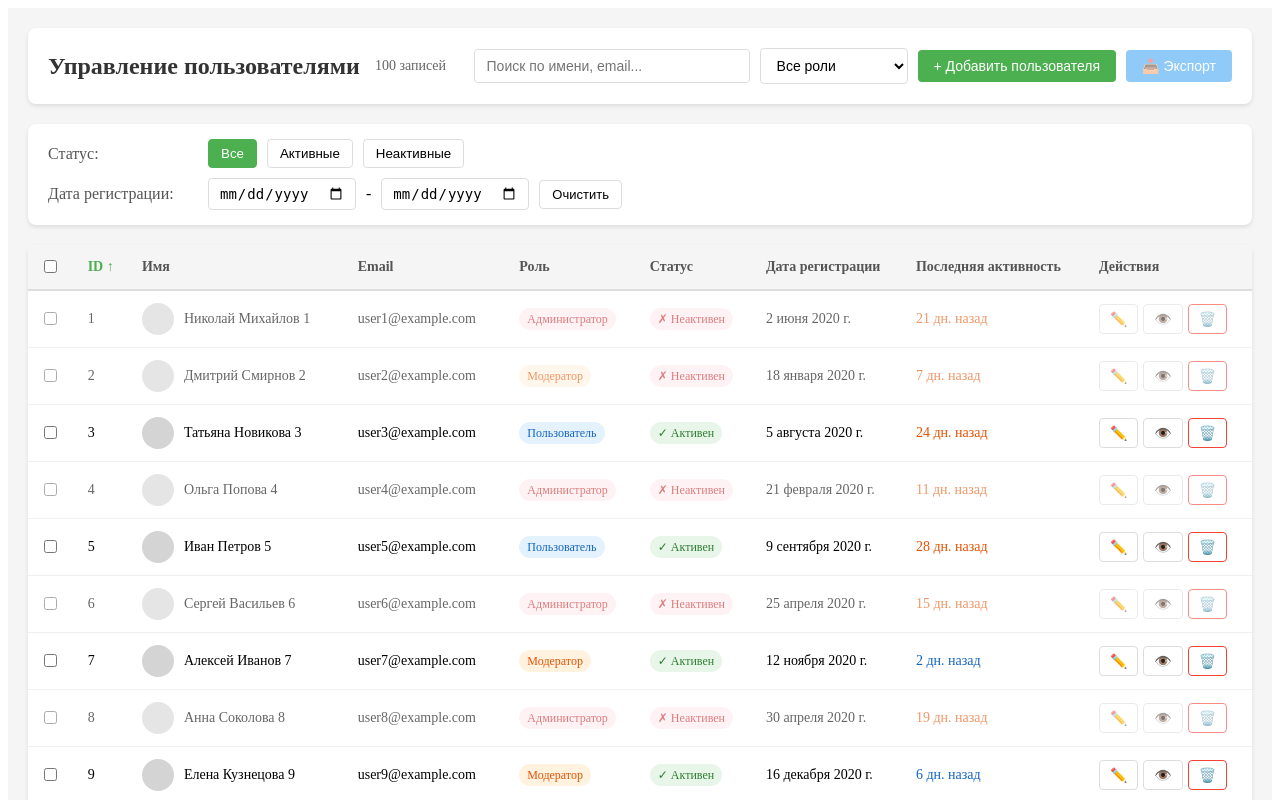
Test: UserTable › Детали пользователя › должен открыть модальное окно деталей при клике на кнопку "Подробнее"
Click the button with class "btn-icon" in the row of "user1@example.com" at (1163, 319), box [1143,304,1183,334]
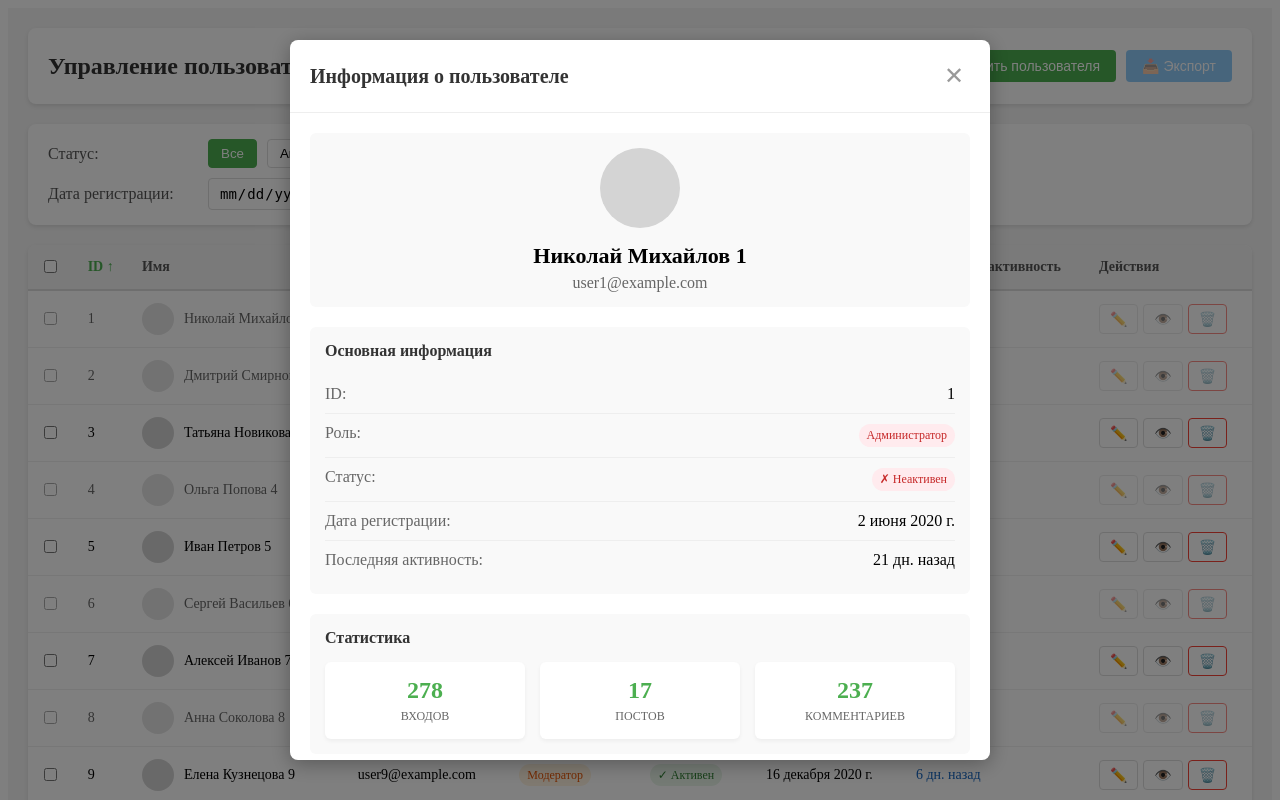
Check: the heading "Информация о пользователе" is shown, box [310,64,569,88]
